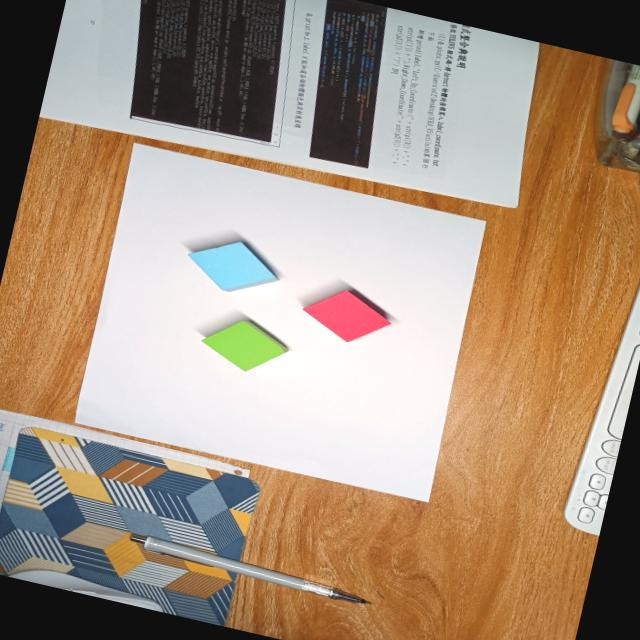BLUE: (186, 241, 279, 292)
GREEN: (201, 321, 289, 371)
RED: (302, 290, 391, 344)
